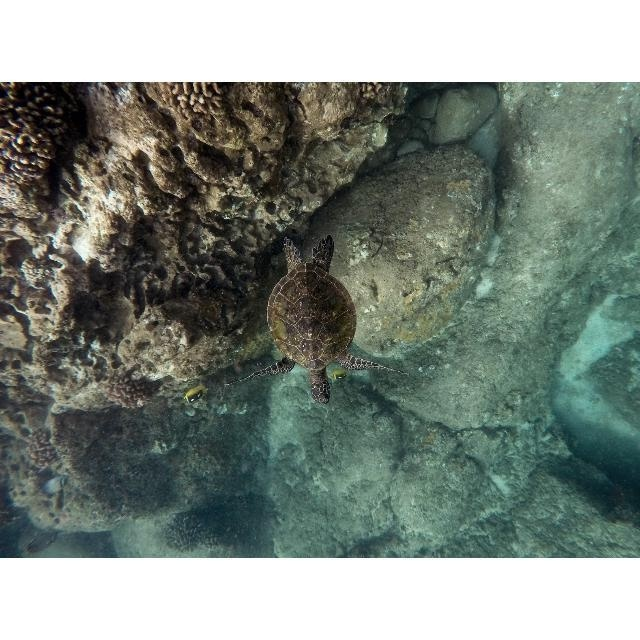turtle: (223, 237, 407, 404)
